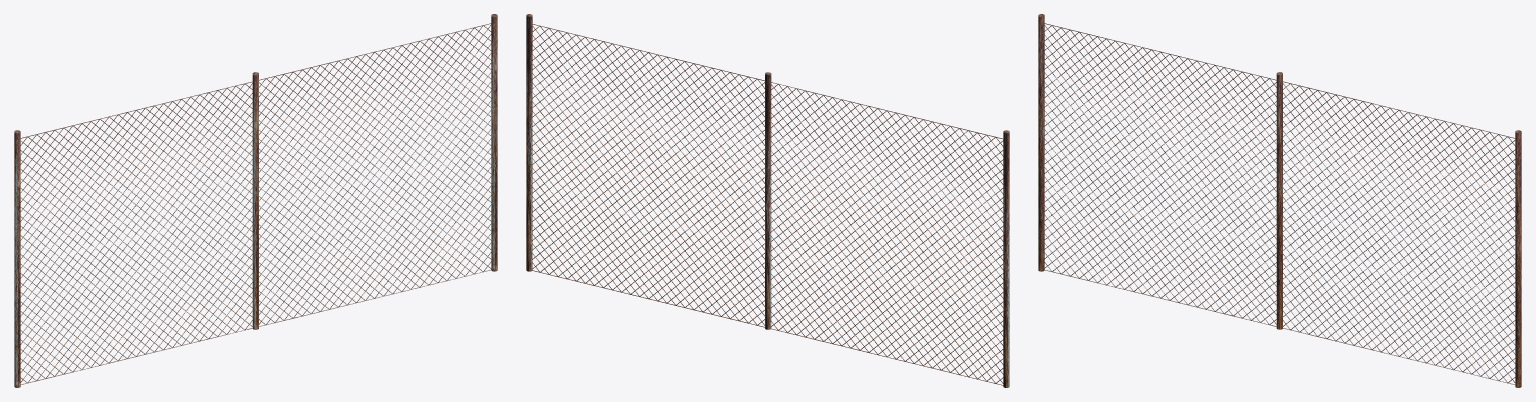
The model's file is wirefence.fbx.
The picture shows the model from 3 angles, left to right: view 1: azimuth 30°, elevation 25°; view 2: azimuth 150°, elevation 25°; view 3: azimuth 330°, elevation 25°; orthographic projection.
Parts seen in each view (by area): view 1: wire_fence; view 2: wire_fence; view 3: wire_fence.
Boxes of the visible parts, box(x1,y1,x2,y2) form: wire_fence: box(14, 14, 497, 387); wire_fence: box(526, 14, 1009, 387); wire_fence: box(1038, 14, 1521, 387).
Bounding box in the file's own units: 30.33 × 15.3 × 0.3579.
Materials: 1 (1 with a texture image).
